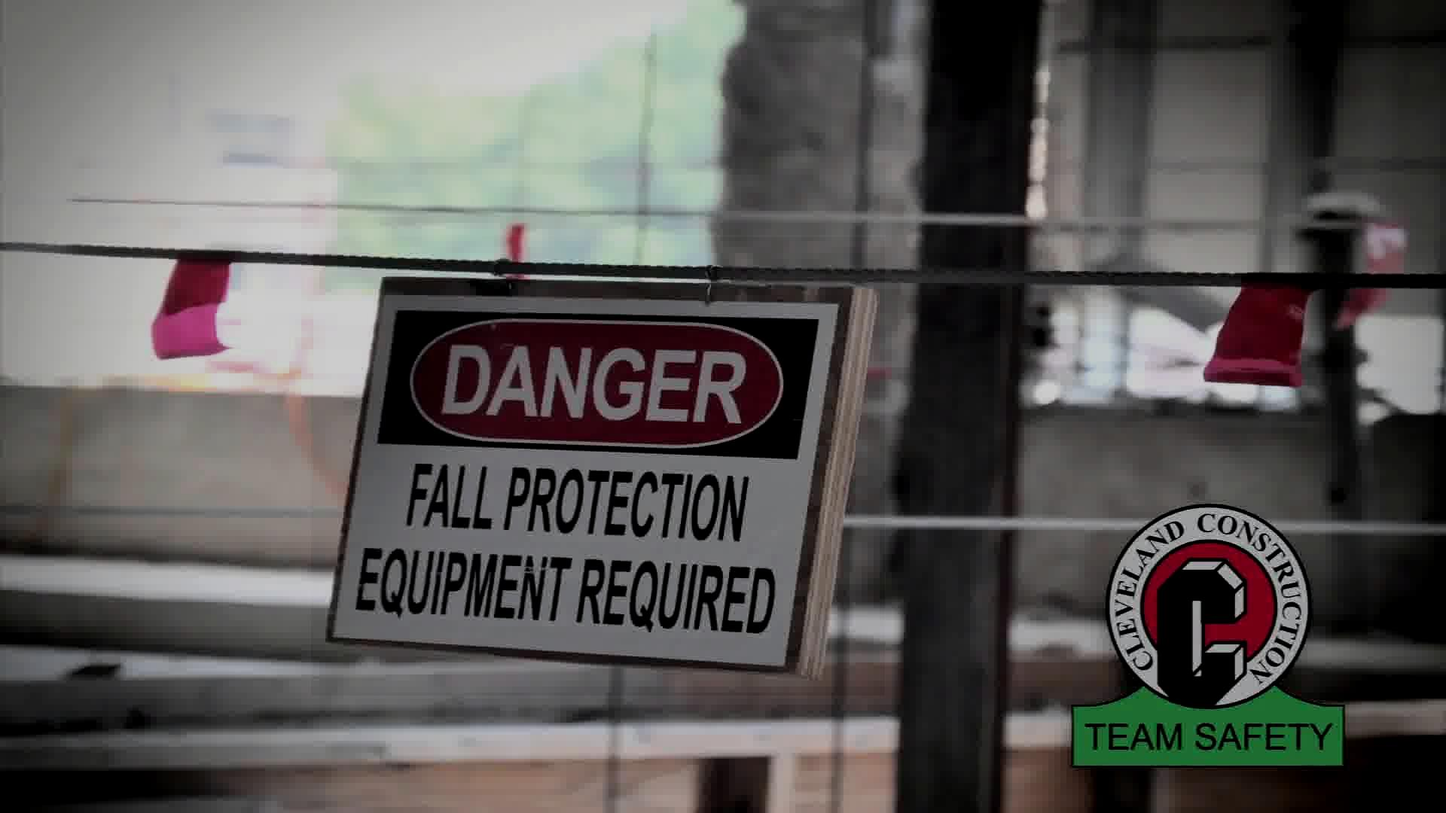safety_signage: (311, 237, 885, 696)
